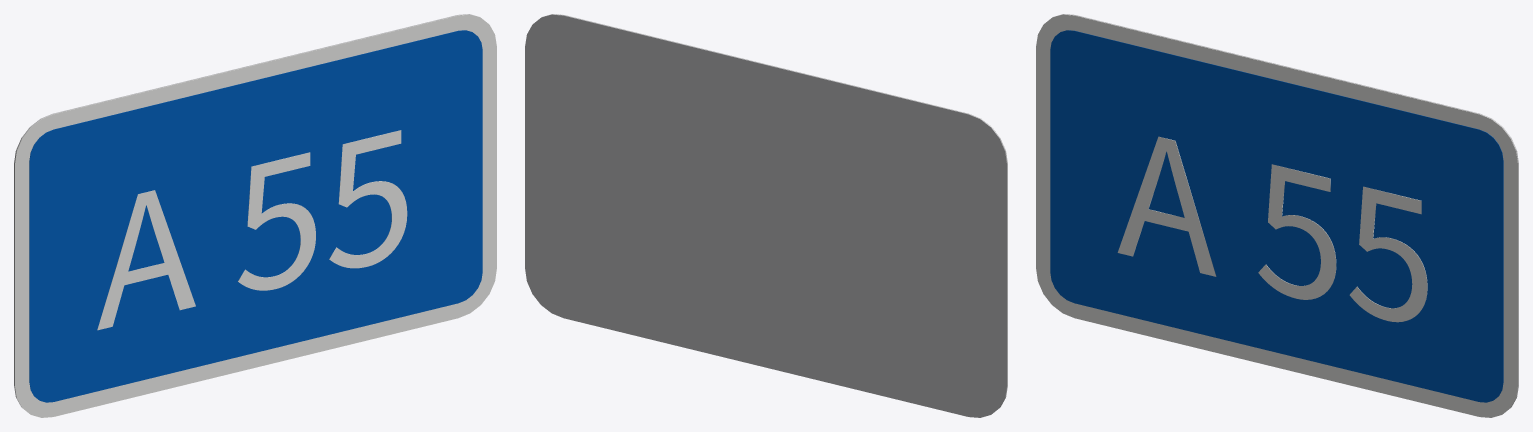
3 renders of one model, left to right at view 1: azimuth 30°, elevation 25°; view 2: azimuth 150°, elevation 25°; view 3: azimuth 330°, elevation 25°, orthographic.
Visible parts, largest first — view 1: E47_fond01, E47_cadre00, E47_txt02, E47_dos; view 2: E47_dos, E47_cadre00; view 3: E47_fond01, E47_cadre00, E47_txt02, E47_dos.
Part boxes in pixels (x1,y1,x2,y2): E47_fond01: [29, 30, 482, 402]; E47_cadre00: [14, 14, 496, 417]; E47_txt02: [97, 130, 407, 330]; E47_dos: [14, 14, 480, 407]; E47_dos: [525, 14, 1007, 417]; E47_cadre00: [545, 14, 1007, 403]; E47_fond01: [1050, 30, 1503, 402]; E47_cadre00: [1036, 14, 1518, 417]; E47_txt02: [1117, 136, 1427, 322]; E47_dos: [1052, 14, 1518, 407].
Size of the model in its own units: 0.5 by 0.3 by 0.0025.
